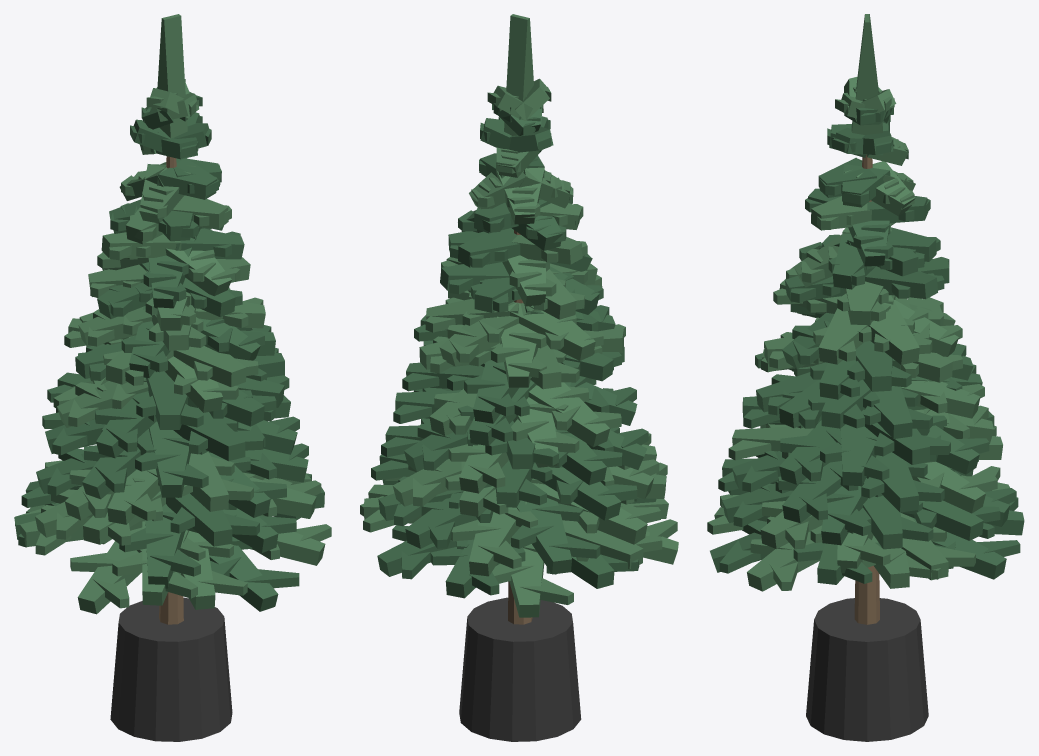
The picture shows the model from 3 angles, left to right: view 1: azimuth 30°, elevation 25°; view 2: azimuth 150°, elevation 25°; view 3: azimuth 270°, elevation 25°; orthographic projection.
Parts seen in each view (by area): view 1: br.002, br, pot, trunk; view 2: br, br.002, pot; view 3: br.002, br, pot, trunk.
Boxes of the visible parts, bbox=[...] form: br.002: bbox=[14, 91, 324, 611]; br: bbox=[15, 14, 331, 614]; pot: bbox=[110, 597, 232, 741]; trunk: bbox=[159, 156, 183, 624]; br: bbox=[360, 14, 678, 617]; br.002: bbox=[371, 104, 656, 598]; pot: bbox=[459, 597, 581, 741]; br.002: bbox=[710, 107, 1024, 584]; br: bbox=[707, 14, 1009, 591]; pot: bbox=[806, 598, 928, 741]; trunk: bbox=[854, 154, 879, 624].
Bounding box in the file's own units: 0.3908 × 0.94 × 0.387.
